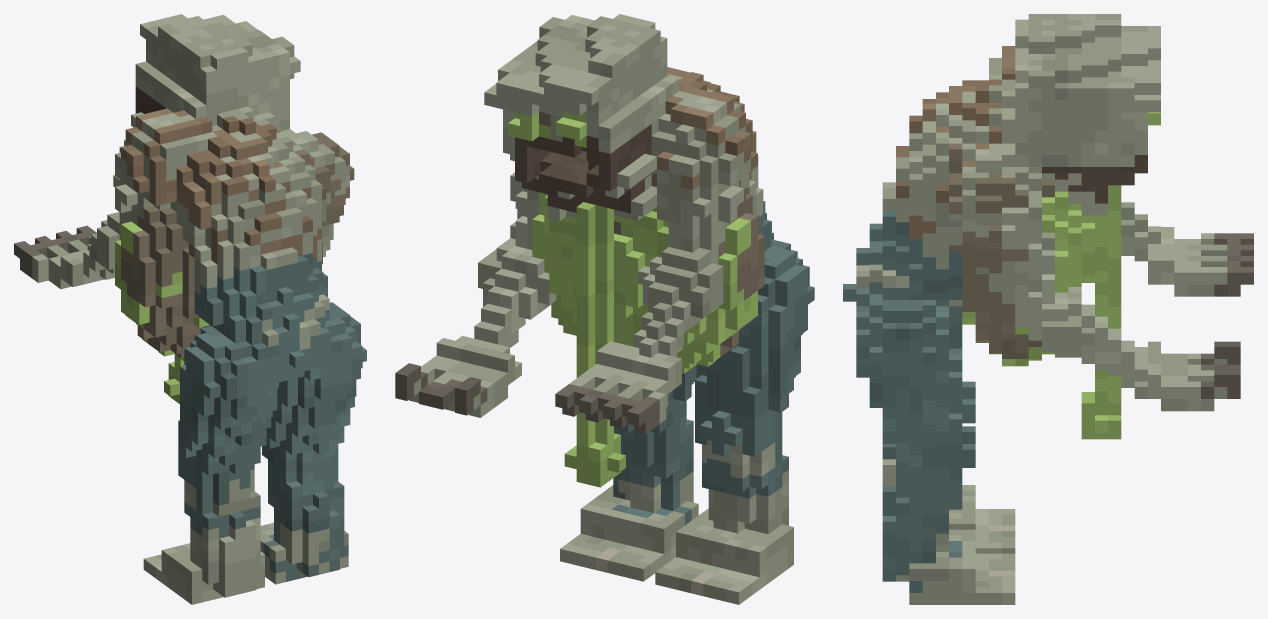
File: acid_zombie.2.glb
The picture shows the model from 3 angles, left to right: view 1: azimuth 30°, elevation 25°; view 2: azimuth 150°, elevation 25°; view 3: azimuth 270°, elevation 25°; orthographic projection. The views are drawn at different scales.
Visible parts, largest first — view 1: acid_zombie.2; view 2: acid_zombie.2; view 3: acid_zombie.2.
Part boxes in pixels (x1,y1,x2,y2): acid_zombie.2: (14,14,366,604); acid_zombie.2: (395,14,814,604); acid_zombie.2: (843,14,1253,604).
Size of the model in its own units: 0.875 by 1.88 by 1.29.
